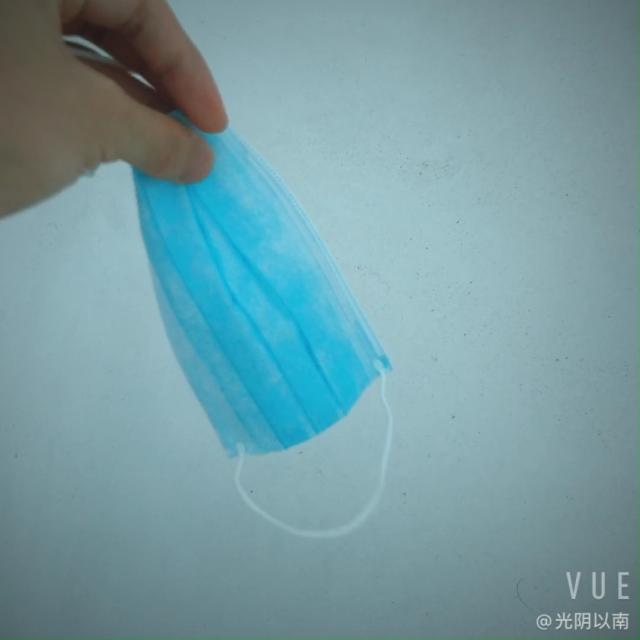non-organic waste: (153, 104, 385, 467)
